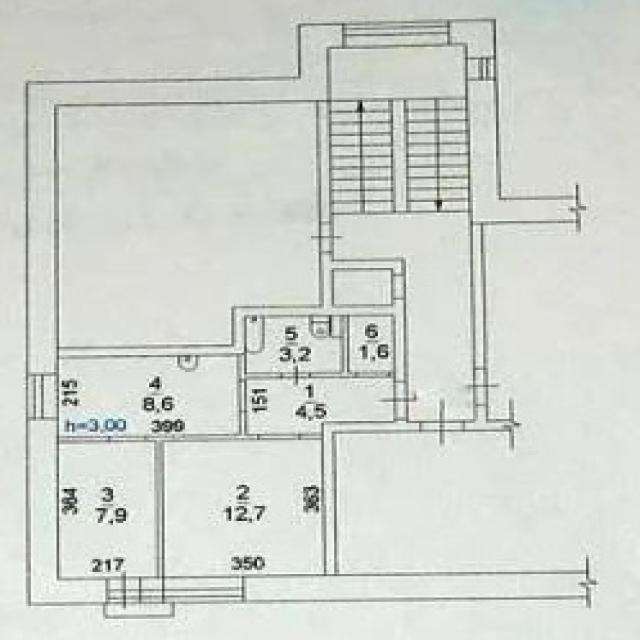Bathrooms: (247, 317, 341, 371)
Corridors: (334, 215, 474, 419), (248, 380, 393, 432), (350, 316, 393, 370), (333, 270, 391, 303), (105, 604, 172, 617)
Doors: (419, 397, 466, 448), (378, 380, 417, 421), (106, 568, 142, 611), (464, 366, 500, 407), (308, 221, 343, 253), (278, 362, 312, 386), (391, 275, 406, 299), (108, 435, 146, 443), (238, 380, 247, 413), (258, 434, 300, 441), (355, 372, 390, 378)
LBwalls: (26, 23, 345, 373), (245, 553, 602, 610), (466, 80, 590, 234), (26, 418, 107, 606), (450, 18, 496, 58)
Offices: (58, 102, 320, 346), (336, 432, 586, 574), (165, 443, 322, 575), (59, 357, 237, 433), (58, 443, 154, 577)
Stairs: (331, 46, 470, 216)
Walls: (58, 251, 407, 380), (300, 420, 421, 576), (146, 412, 258, 576), (464, 396, 527, 454), (472, 224, 486, 368), (317, 100, 332, 221), (58, 434, 107, 443)
Windows: (343, 21, 449, 48), (140, 577, 245, 604), (26, 373, 58, 421), (467, 58, 496, 80)
